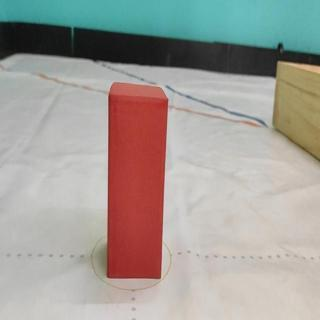redbox: (108, 79, 167, 281)
